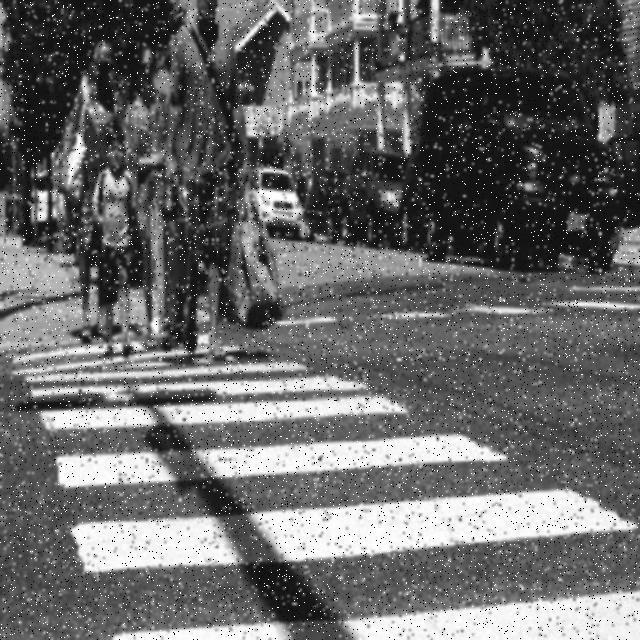Pedestrian crosswalk: (9, 336, 629, 639)
